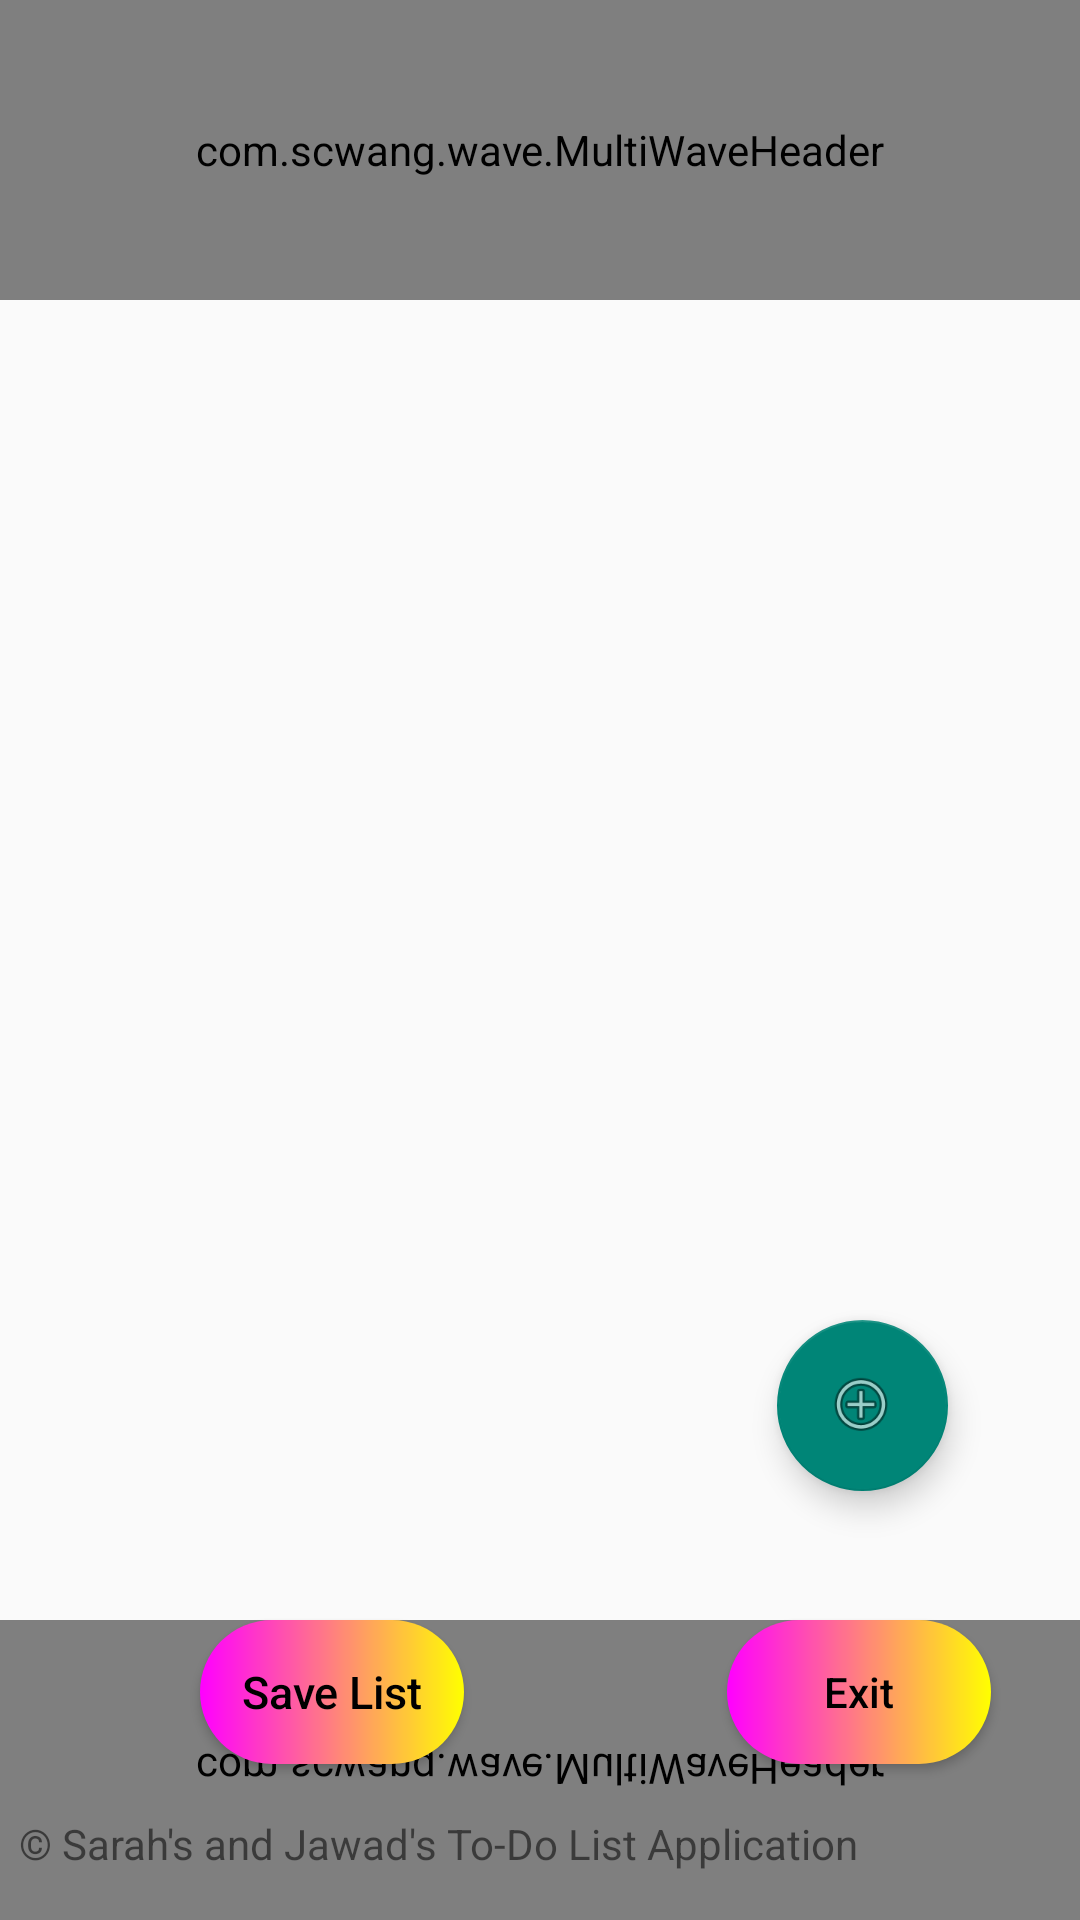

Icon click points for this 1080px x 1920px phone screenshot, format point (x, y):
add: point (862, 1405)
